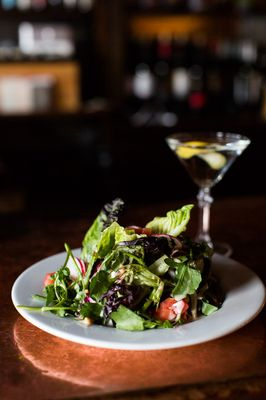curry: (143, 204, 193, 237)
